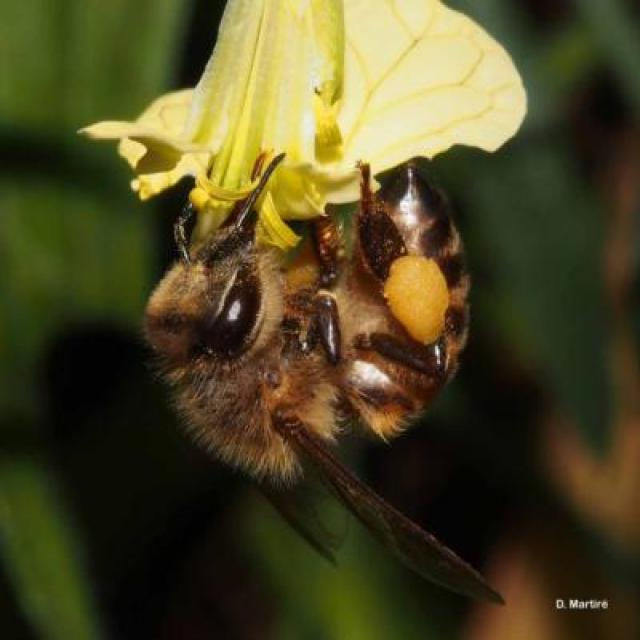antennae: (201, 154, 273, 260), (169, 201, 202, 268)
body: (146, 158, 472, 461)
insect: (146, 146, 510, 610)
legs: (349, 164, 455, 371), (298, 209, 342, 368)
mouthpart: (205, 180, 275, 258)
wings: (272, 409, 506, 608), (238, 451, 350, 568)
